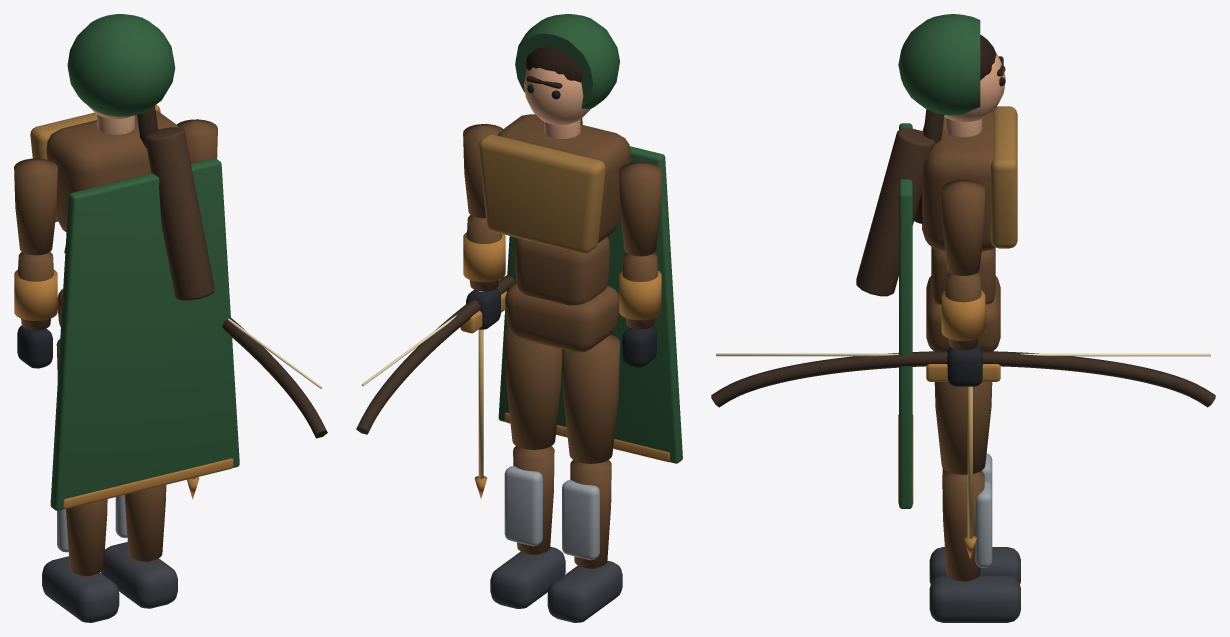
The model's file is aria.glb.
3 views of the same model, side by side, from view 1: azimuth 30°, elevation 25°; view 2: azimuth 150°, elevation 25°; view 3: azimuth 270°, elevation 25° (orthographic). The views are drawn at different scales.
Parts seen in each view (by area): view 1: Cape, Hood, Quiver, Torso, UpperArm0, Boot0, Boot1, Shin0, Shin1, Limb, CapeTrim, Bracer0 (+8 smaller); view 2: Vest, Cape, Thigh0, Thigh1, Pelvis, Hood, Waist, Torso, UpperArm0, Boot0, Boot1, Greave1 (+16 smaller); view 3: Limb, Hood, Quiver, Torso, Cape, Thigh1, Boot1, UpperArm1, Vest, Shin1, Pelvis, Bracer1 (+10 smaller).
Boxes of the visible parts, x1,y1,x2,y2 form: Cape: (50,158,239,510); Hood: (67,14,175,116); Quiver: (145,127,214,300); Torso: (46,110,178,232); UpperArm0: (14,158,57,255); Boot0: (42,556,119,622); Boot1: (101,542,177,608); Shin0: (66,499,107,576); Shin1: (124,485,166,562); Limb: (64,246,327,438); CapeTrim: (63,458,233,509); Bracer0: (14,269,57,320); Vest: (479,134,605,253); Cape: (498,146,682,463); Thigh0: (562,334,619,463); Thigh1: (504,324,562,449); Pelvis: (505,283,619,352); Hood: (515,14,619,109); Waist: (514,237,610,305); Torso: (497,114,630,251); UpperArm0: (619,162,661,256); Boot0: (547,560,622,622); Boot1: (490,546,565,608); Greave1: (504,466,542,546); Limb: (711,351,1215,407); Hood: (898,14,980,115); Quiver: (856,128,934,296); Torso: (922,111,995,251); Cape: (899,123,912,508); Thigh1: (934,382,992,474); Boot1: (929,575,1020,622); UpperArm1: (941,180,985,275); Vest: (990,106,1017,248); Shin1: (942,471,984,582); Pelvis: (926,276,1000,351); Bracer1: (941,290,985,341).
Bounding box in the file's own units: 0.6687 × 1.9 × 1.49.
